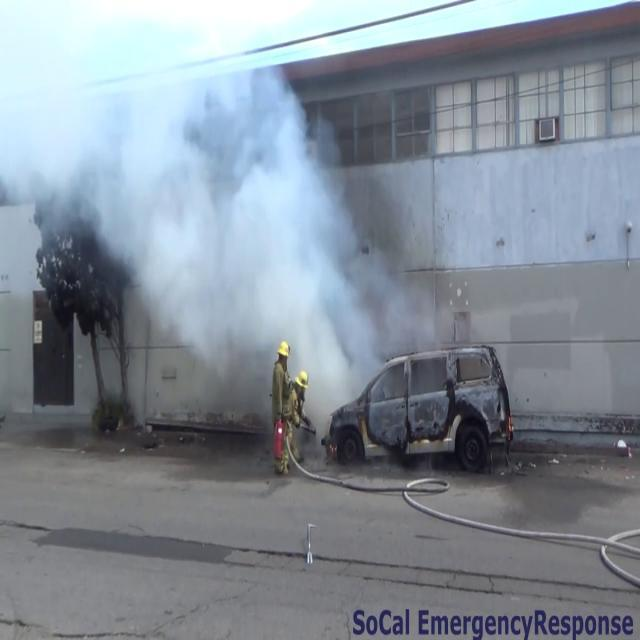Smoke: (5, 13, 402, 410)
